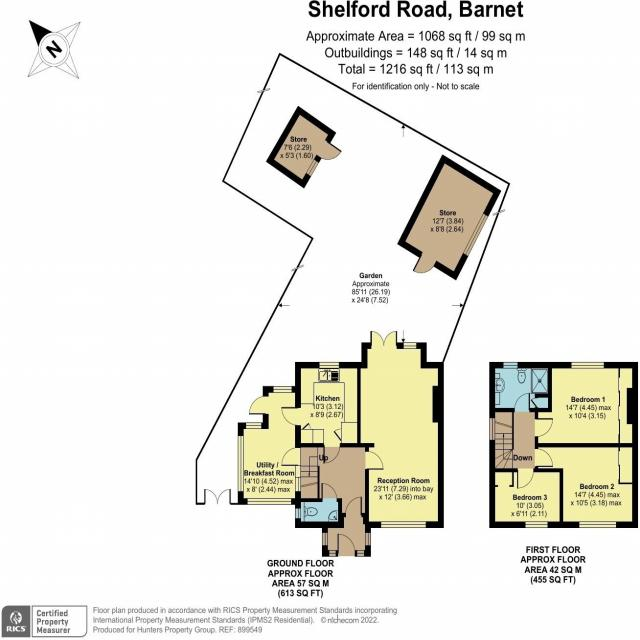DOOR: (534, 447, 554, 468), (337, 534, 355, 557), (281, 406, 301, 426), (281, 447, 301, 466), (249, 396, 269, 415), (516, 468, 534, 489), (323, 443, 341, 464), (365, 451, 384, 470), (535, 417, 553, 437), (514, 392, 531, 413), (345, 496, 362, 517), (321, 482, 337, 502)
DOUBLE DOOR: (370, 330, 398, 346)
ROOM: (357, 330, 444, 528), (534, 361, 638, 448), (534, 443, 638, 528), (281, 362, 361, 464), (489, 468, 563, 528)
WINDOW: (380, 521, 427, 529), (238, 435, 244, 492), (247, 498, 292, 505), (578, 521, 617, 529), (571, 361, 604, 369), (489, 417, 496, 441), (525, 521, 548, 528), (319, 362, 339, 369), (273, 386, 292, 393), (246, 422, 262, 429), (503, 362, 518, 369), (403, 342, 417, 349), (295, 477, 301, 492), (365, 532, 371, 546), (322, 532, 328, 546), (295, 508, 301, 519), (357, 550, 364, 557), (329, 550, 336, 557)
